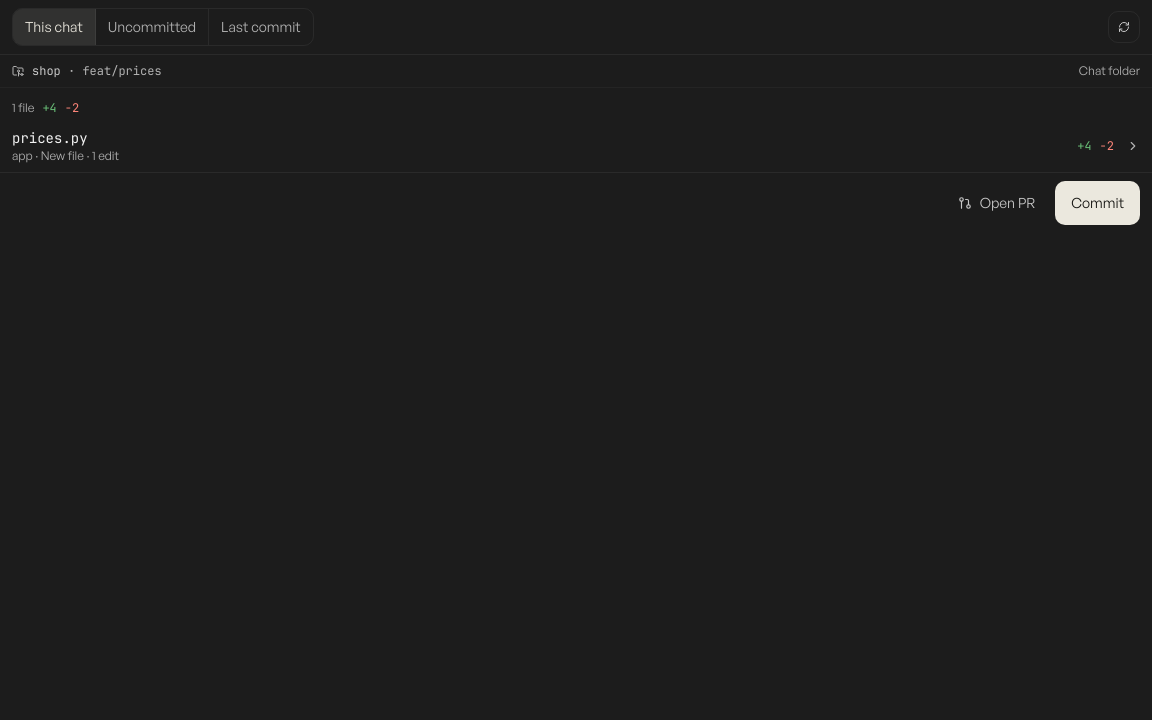
it: Revert file › a file the chat created says that reverting deletes it
This screenshot has width=1152, height=720.
Click the button with test id "chat-change-row": (50,138) [0,120,1151,172]
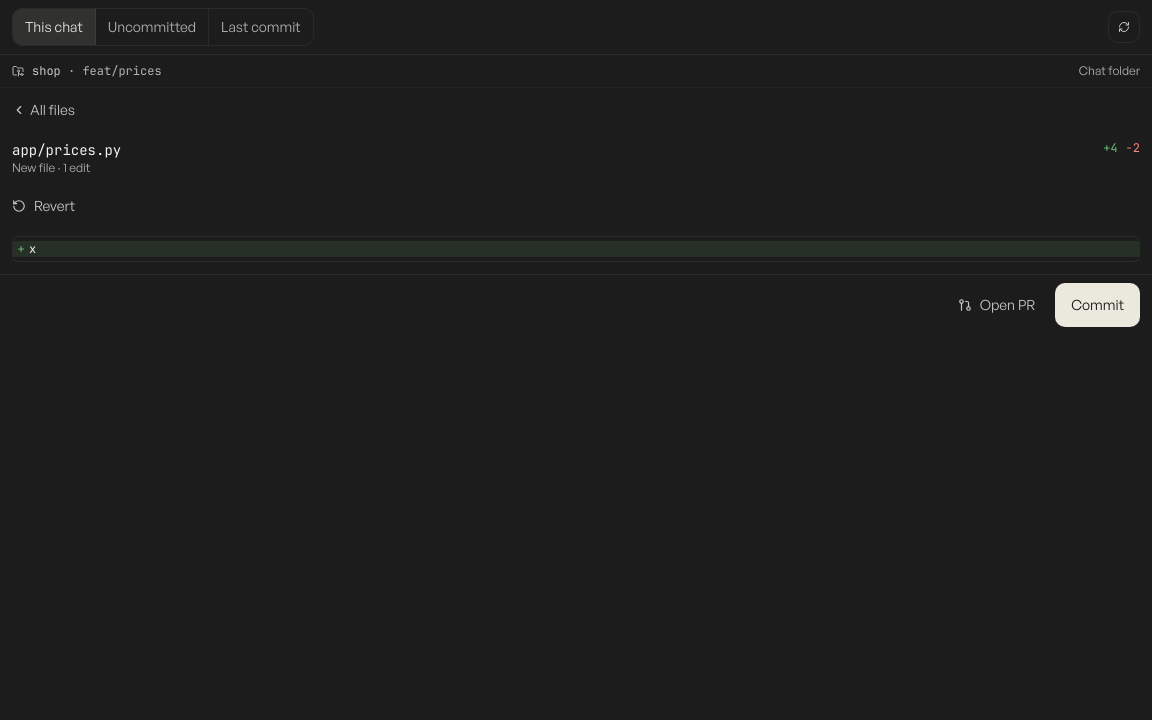
Click the button with test id "chat-change-revert": (44,206) [0,184,87,228]
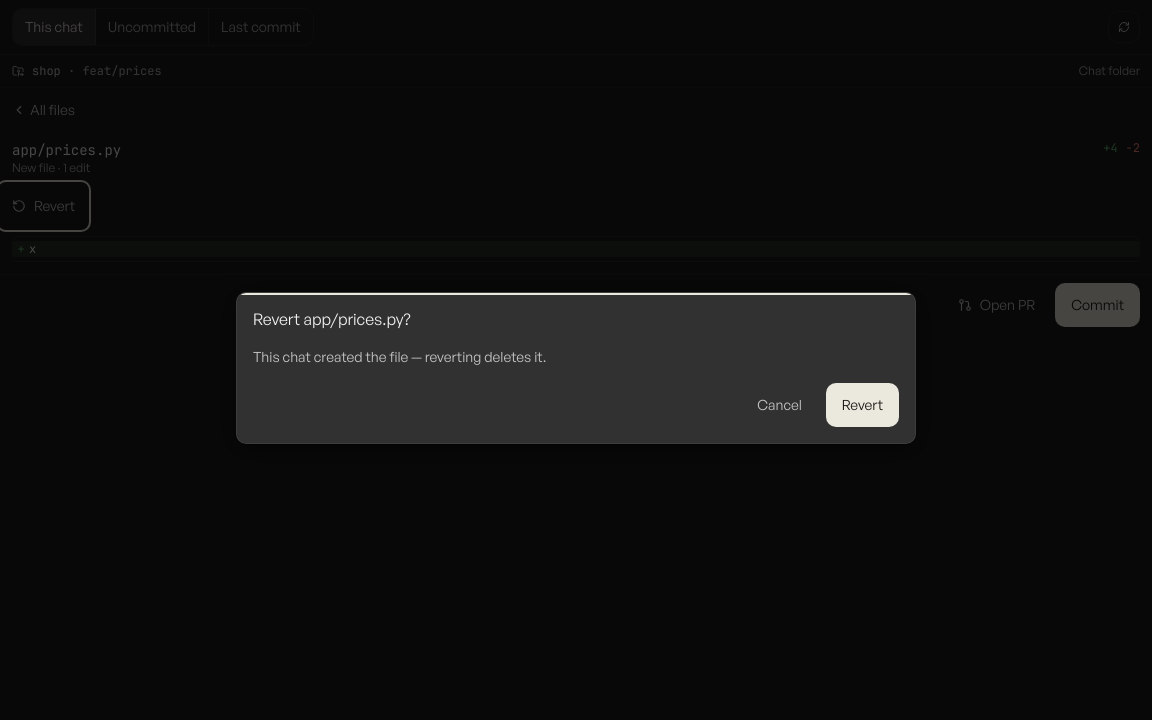
Expected: the text "This chat created the file — reverting deletes it." is shown, [253,348,546,365]
